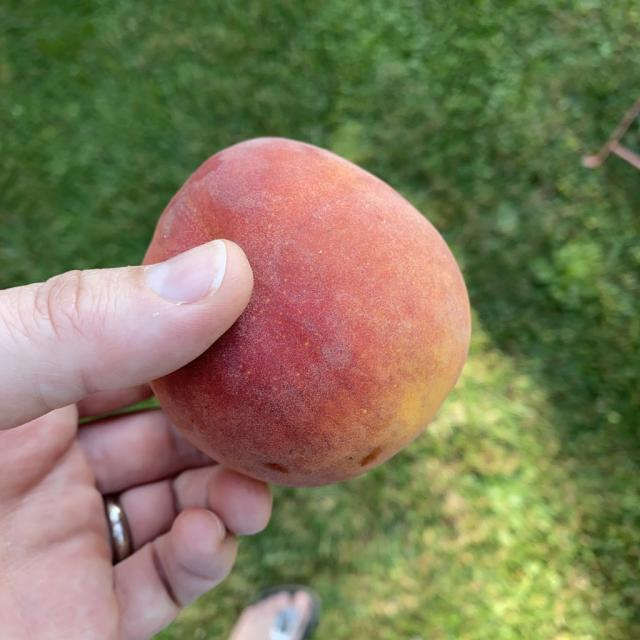peach: (157, 142, 468, 486)
